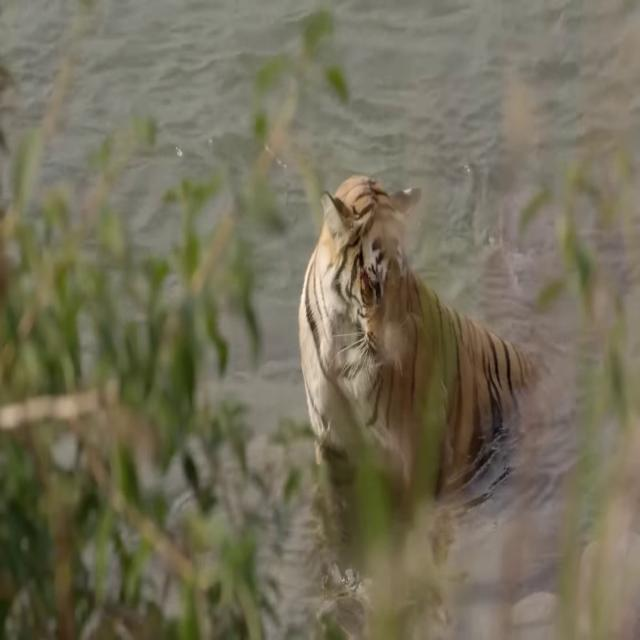tiger: (297, 173, 555, 494)
